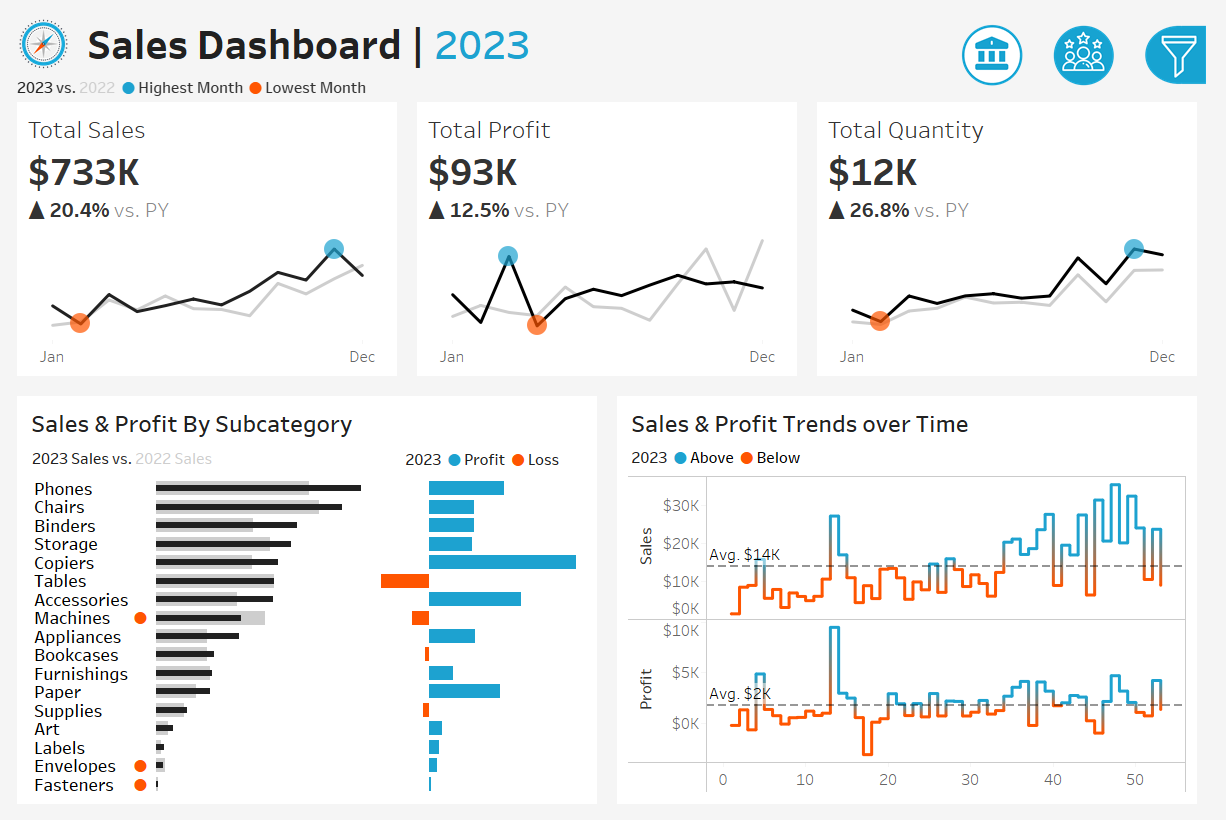

Layout of this report page (visuals, bound fields, positions):
{"tool":"tableau","page":{"name":"Sales Dashboard","canvas":[1200,800],"ordinal":1},"visuals":[{"type":"image","param":"Image/Icon - Logo.png","box":[0,0,73,59]},{"type":"text","box":[73,0,820,59]},{"type":"dashboard-object","box":[940,6,91,70]},{"type":"dashboard-object","box":[1031,6,91,70]},{"type":"blank","box":[952,10,237,86]},{"type":"worksheet","title":"Legend KPI","mark":"Automatic","box":[0,59,1200,29]},{"type":"worksheet","title":"KPI Sales","mark":"Automatic","rows":["Calculation_721701895347843083"],"cols":["Order Date"],"box":[0,88,400,284]},{"type":"worksheet","title":"KPI Profit","mark":"Automatic","rows":["Min/Max Sales (copy)_237846410425847814"],"cols":["Order Date"],"box":[400,88,400,284]},{"type":"worksheet","title":"KPI Quantity","mark":"Automatic","rows":["Min/Max Sales (copy) (copy)_237846410425856007"],"cols":["Order Date"],"box":[800,88,400,284]},{"type":"text","box":[952,96,237,37]},{"type":"parameter","param":"[Parameters].[Parameter 1]","box":[952,133,237,55]},{"type":"text","box":[952,188,237,32]},{"type":"filter","title":"KPI Sales","param":"[federated.1kpxa041aiai2y1cl4pui1t4eju9].[none:Category:nk]","box":[952,220,237,57]},{"type":"filter","title":"KPI Sales","param":"[federated.1kpxa041aiai2y1cl4pui1t4eju9].[none:Sub-Category:nk]","box":[952,277,237,57]},{"type":"blank","box":[952,334,237,60]},{"type":"text","box":[17,389,566,40]},{"type":"text","box":[617,389,566,40]},{"type":"text","box":[952,394,237,32]},{"type":"filter","title":"KPI Sales","param":"[federated.1kpxa041aiai2y1cl4pui1t4eju9].[none:Region:nk]","box":[952,426,237,57]},{"type":"worksheet","title":"Legend Subcategory","mark":"Automatic","box":[17,429,374,32]},{"type":"text","box":[391,429,192,32]},{"type":"text","box":[617,429,566,29]},{"type":"worksheet","title":"Weekly Trends","mark":"Automatic","rows":["Calculation_721701895334993921","CY Sales (copy)_237846410424180736"],"cols":["Order Date"],"box":[617,458,566,325]},{"type":"worksheet","title":"Subcategory Comparison","mark":"Bar","rows":["Sub-Category","Calculation_2435040078806671369"],"cols":["CY Sales (copy)_721701895335804930","Calculation_721701895334993921","CY Sales (copy)_237846410424180736"],"box":[17,461,566,321.9]},{"type":"filter","title":"KPI Sales","param":"[federated.1kpxa041aiai2y1cl4pui1t4eju9].[none:State:nk]","box":[952,483,237,57]},{"type":"filter","title":"KPI Sales","param":"[federated.1kpxa041aiai2y1cl4pui1t4eju9].[none:City:nk]","box":[952,540,237,57]}]}

Visuals, with their boxes in screenshot pixels (x1, y1, x2, y2), scaled from the page's 1200x800 canvas onto the 1226x820 screenshot:
image: <bbox>0, 0, 75, 60</bbox>
text: <bbox>75, 0, 912, 60</bbox>
dashboard-object: <bbox>960, 6, 1053, 78</bbox>
dashboard-object: <bbox>1053, 6, 1146, 78</bbox>
blank: <bbox>973, 10, 1215, 98</bbox>
"Legend KPI" worksheet: <bbox>0, 60, 1225, 90</bbox>
"KPI Sales" worksheet: <bbox>0, 90, 409, 381</bbox>
"KPI Profit" worksheet: <bbox>409, 90, 817, 381</bbox>
"KPI Quantity" worksheet: <bbox>817, 90, 1225, 381</bbox>
text: <bbox>973, 98, 1215, 136</bbox>
parameter: <bbox>973, 136, 1215, 193</bbox>
text: <bbox>973, 193, 1215, 225</bbox>
"KPI Sales" filter: <bbox>973, 225, 1215, 284</bbox>
"KPI Sales" filter: <bbox>973, 284, 1215, 342</bbox>
blank: <bbox>973, 342, 1215, 404</bbox>
text: <bbox>17, 399, 596, 440</bbox>
text: <bbox>630, 399, 1209, 440</bbox>
text: <bbox>973, 404, 1215, 437</bbox>
"KPI Sales" filter: <bbox>973, 437, 1215, 495</bbox>
"Legend Subcategory" worksheet: <bbox>17, 440, 399, 473</bbox>
text: <bbox>399, 440, 596, 473</bbox>
text: <bbox>630, 440, 1209, 469</bbox>
"Weekly Trends" worksheet: <bbox>630, 469, 1209, 803</bbox>
"Subcategory Comparison" worksheet (Bar marks): <bbox>17, 473, 596, 802</bbox>
"KPI Sales" filter: <bbox>973, 495, 1215, 554</bbox>
"KPI Sales" filter: <bbox>973, 554, 1215, 612</bbox>
